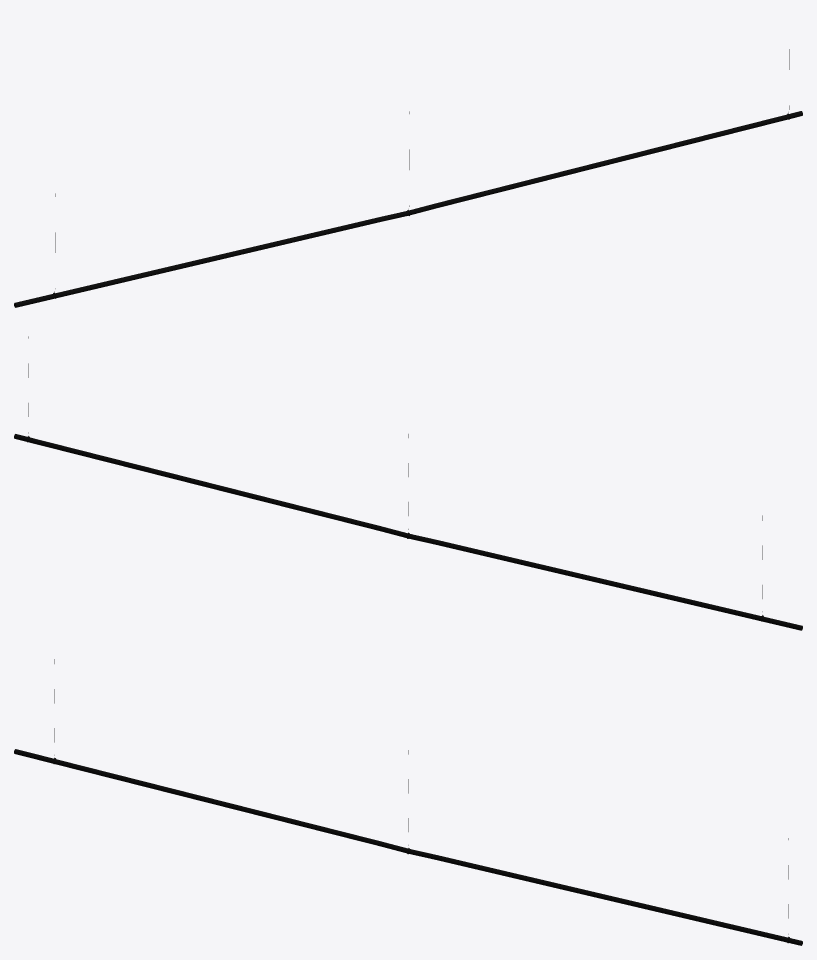
The model's file is BlackMetal003.FBX.
The picture shows the model from 3 angles, top to bottom: view 1: azimuth 30°, elevation 25°; view 2: azimuth 150°, elevation 25°; view 3: azimuth 330°, elevation 25°; orthographic projection.
Visible parts, largest first — view 1: BlackMetal003; view 2: BlackMetal003; view 3: BlackMetal003.
Boxes of the visible parts, bbox=[...] form: BlackMetal003: bbox=[14, 49, 802, 307]; BlackMetal003: bbox=[14, 336, 802, 630]; BlackMetal003: bbox=[14, 659, 802, 945].
Bounding box in the file's own units: 18.31 × 2.43 × 0.1219.
Materials: 1 (1 with a texture image).
